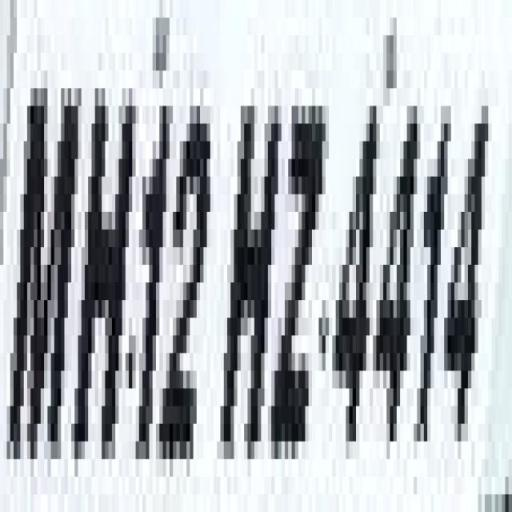number plate: (30, 36, 509, 494)
